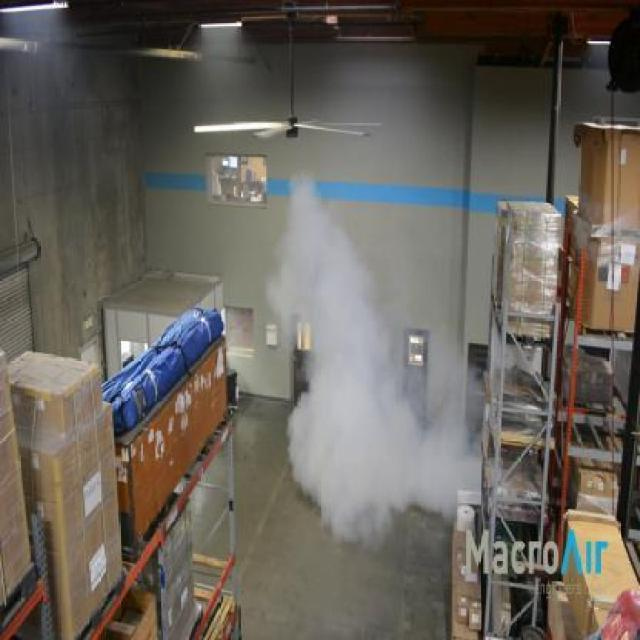fire: (268, 170, 448, 550)
